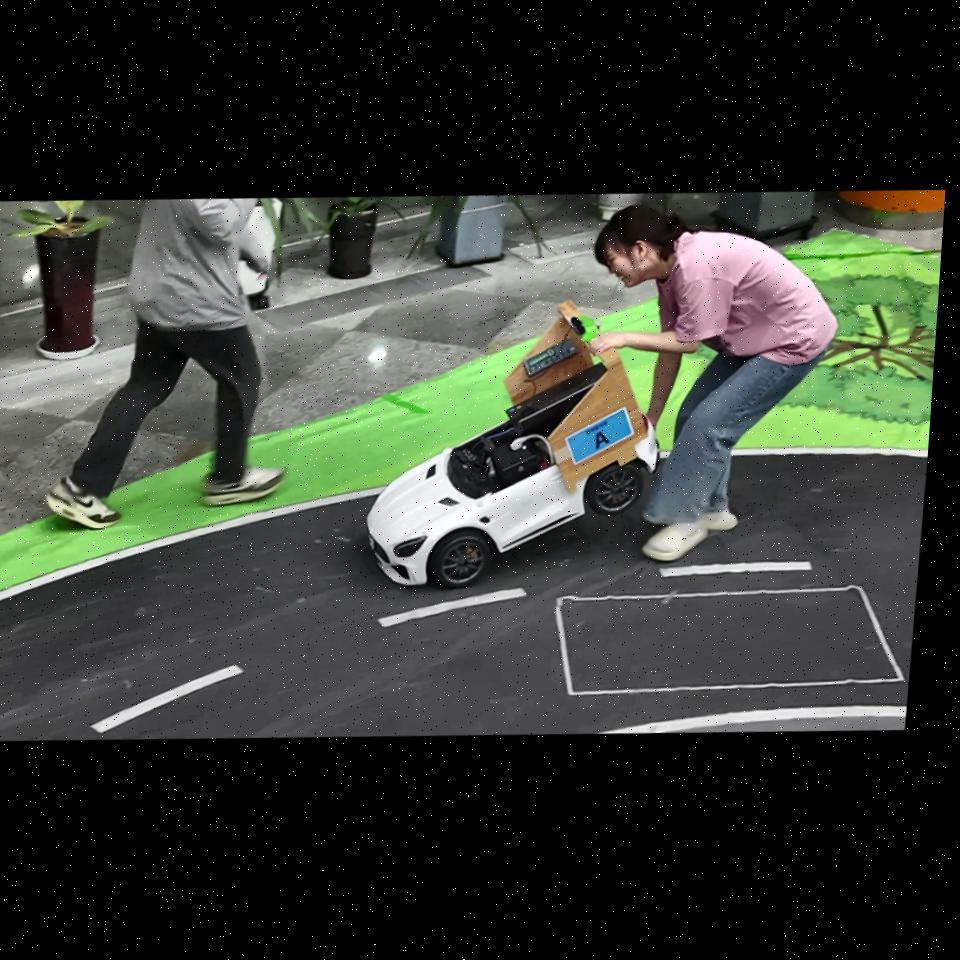broken_line: (91, 665, 243, 733), (378, 587, 527, 627), (659, 561, 812, 578)
